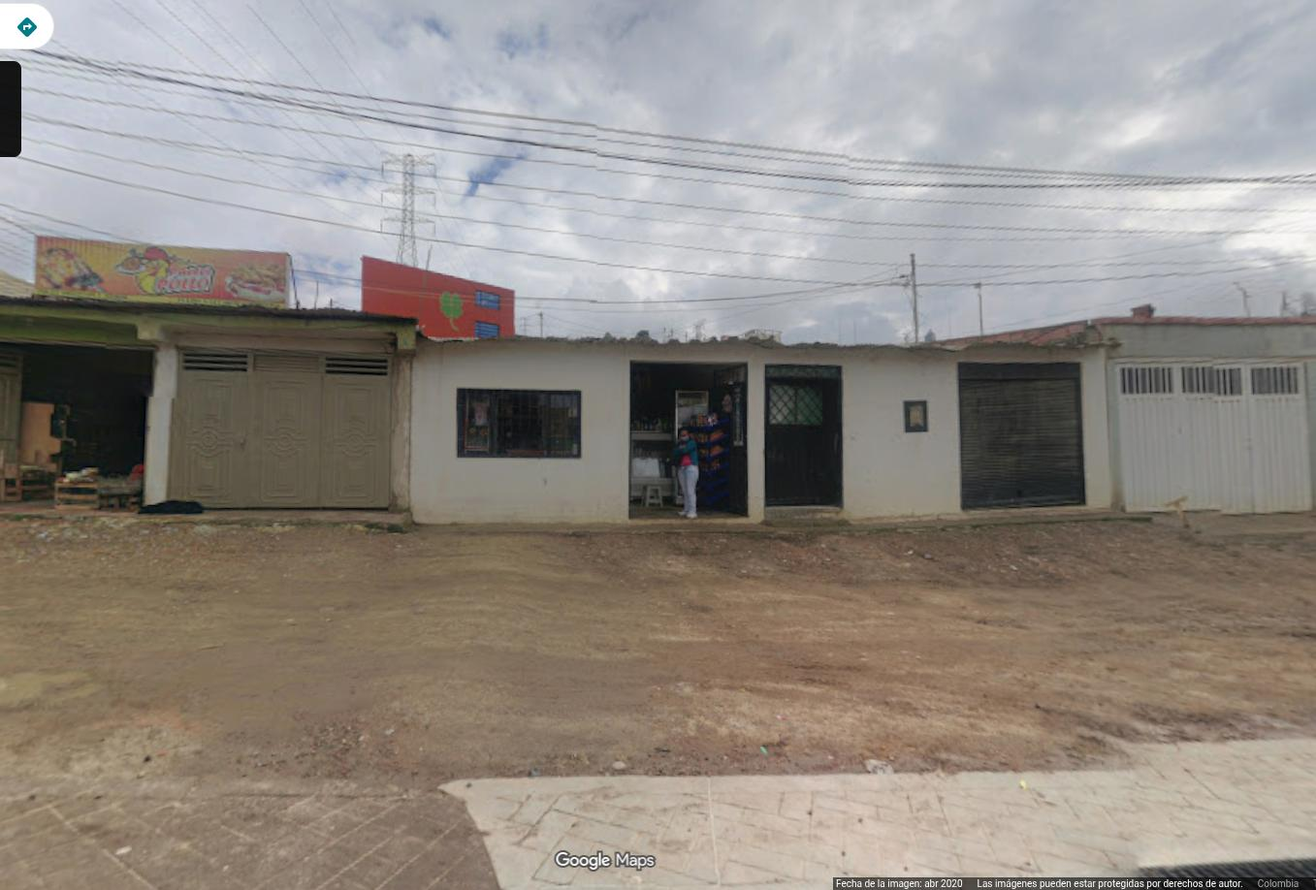casa: (411, 337, 1111, 524), (0, 344, 400, 510), (1083, 304, 1315, 513)
